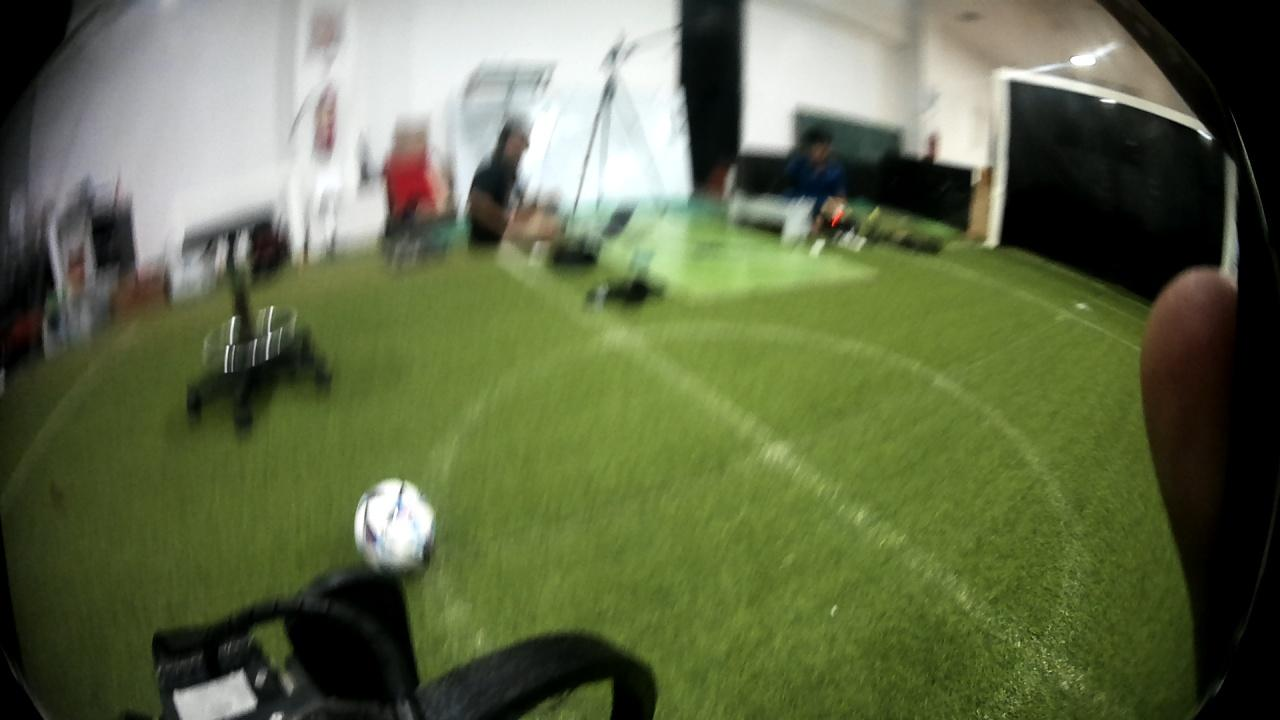ball: (351, 465, 443, 580)
